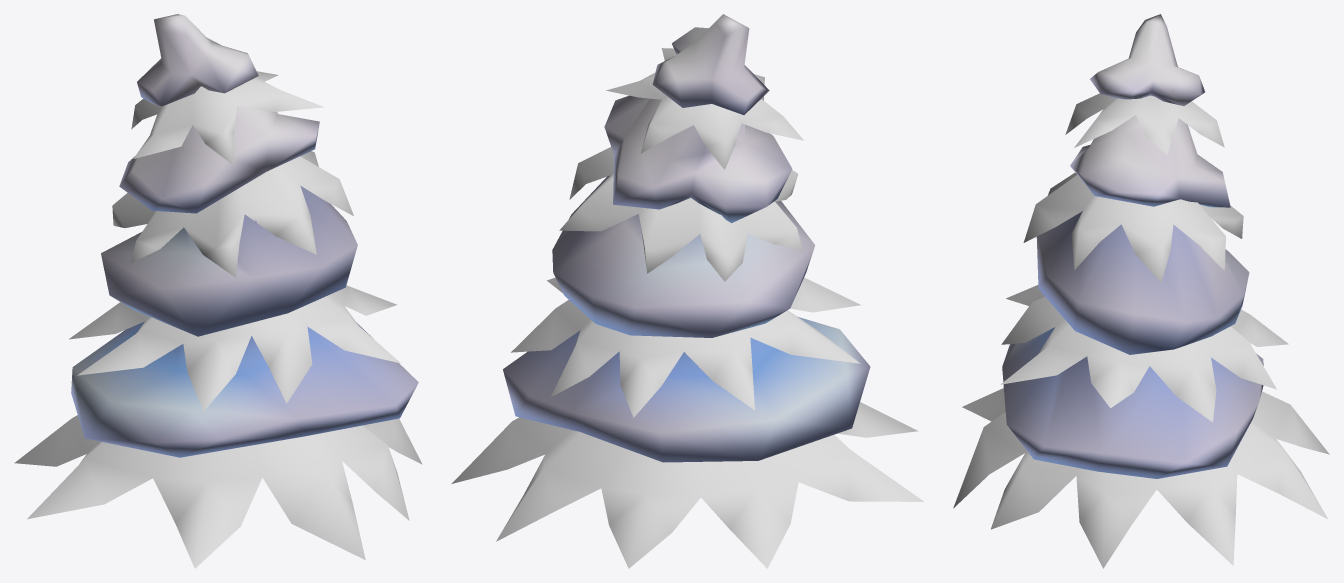
The model's file is SnowyPineTreeTall.glb.
3 views of the same model, side by side, from view 1: azimuth 30°, elevation 25°; view 2: azimuth 150°, elevation 25°; view 3: azimuth 270°, elevation 25° (orthographic). The views are drawn at different scales.
Parts seen in each view (by area): view 1: SnowyPineTreeTall; view 2: SnowyPineTreeTall; view 3: SnowyPineTreeTall.
Part boxes in pixels (left/top/right/bottom): SnowyPineTreeTall: left=14, top=14, right=422, bottom=568; SnowyPineTreeTall: left=451, top=14, right=924, bottom=568; SnowyPineTreeTall: left=953, top=14, right=1329, bottom=568.
Bounding box in the file's own units: 8.52 × 9.98 × 7.54.
